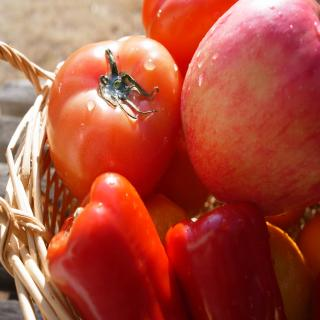tomato: (41, 32, 185, 202), (45, 172, 188, 320), (163, 201, 284, 320), (139, 0, 237, 78)
